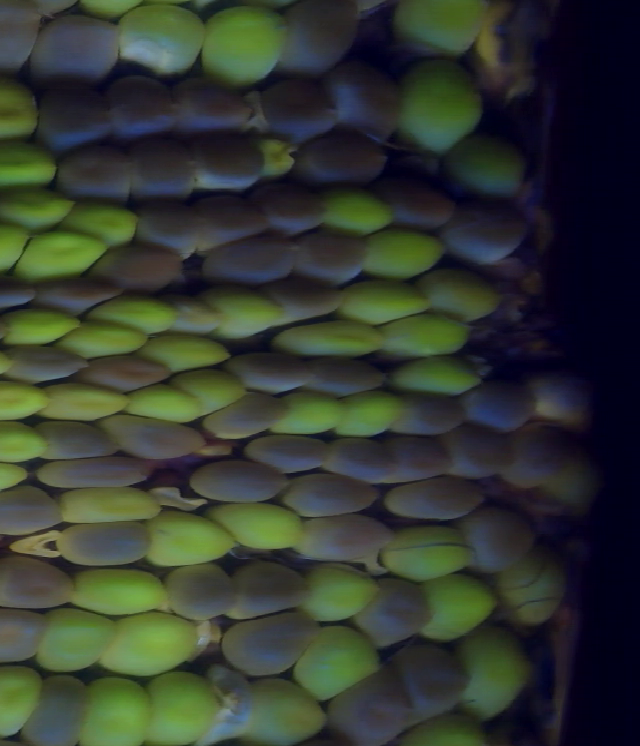fluorescent: (401, 60, 483, 154), (206, 2, 282, 87), (458, 627, 528, 714), (244, 676, 327, 746), (119, 7, 203, 76), (293, 627, 377, 695), (107, 614, 195, 677), (495, 547, 563, 628), (37, 603, 115, 671), (389, 2, 478, 59), (151, 667, 218, 741), (301, 560, 382, 621), (81, 676, 151, 746), (420, 575, 493, 642), (383, 526, 475, 579), (207, 504, 304, 552), (448, 136, 523, 197), (209, 279, 280, 342), (68, 568, 165, 614), (148, 512, 233, 564), (363, 227, 442, 282), (53, 482, 159, 522), (20, 229, 104, 279), (333, 278, 428, 321), (418, 269, 498, 320), (378, 314, 473, 356), (42, 378, 123, 425), (278, 319, 380, 355), (65, 199, 141, 246), (145, 329, 228, 372), (175, 369, 248, 417), (0, 303, 75, 349), (324, 189, 393, 238), (94, 295, 180, 334), (0, 189, 76, 232), (123, 382, 200, 423), (397, 356, 480, 394), (60, 319, 148, 354), (277, 392, 347, 436), (0, 664, 41, 737), (342, 392, 402, 437), (0, 144, 61, 187), (0, 74, 38, 142), (0, 375, 51, 423), (258, 137, 301, 186), (0, 420, 43, 464)
nonfluorescent: (28, 12, 123, 81), (448, 192, 528, 266), (223, 612, 312, 676), (331, 668, 406, 742), (49, 137, 128, 205), (203, 235, 304, 287), (125, 137, 200, 207), (323, 65, 399, 133), (397, 640, 470, 709), (462, 504, 536, 572), (43, 80, 112, 152), (380, 169, 453, 237), (288, 6, 363, 72), (293, 132, 387, 184), (106, 412, 203, 460), (172, 75, 251, 133), (351, 578, 428, 637), (288, 468, 380, 517), (503, 417, 568, 486), (110, 70, 173, 140), (93, 242, 183, 291), (261, 82, 338, 139), (189, 137, 265, 194), (300, 513, 390, 561), (53, 521, 148, 564), (0, 557, 75, 611), (197, 194, 269, 250), (232, 565, 309, 617), (188, 462, 288, 502), (256, 176, 323, 235), (33, 673, 87, 746), (129, 202, 199, 258), (382, 479, 484, 517), (168, 563, 238, 618), (461, 376, 533, 428), (296, 230, 367, 282), (33, 274, 116, 318), (229, 347, 310, 392), (386, 432, 454, 485), (7, 342, 90, 384), (325, 438, 400, 484), (38, 457, 149, 488), (392, 391, 465, 437), (205, 663, 245, 746), (446, 425, 512, 475), (309, 357, 388, 398), (88, 355, 175, 392), (243, 436, 328, 473), (207, 399, 281, 441), (0, 2, 43, 73), (533, 374, 590, 427), (0, 487, 64, 534), (37, 422, 113, 459), (273, 277, 337, 320), (0, 607, 43, 663), (0, 277, 32, 313)
